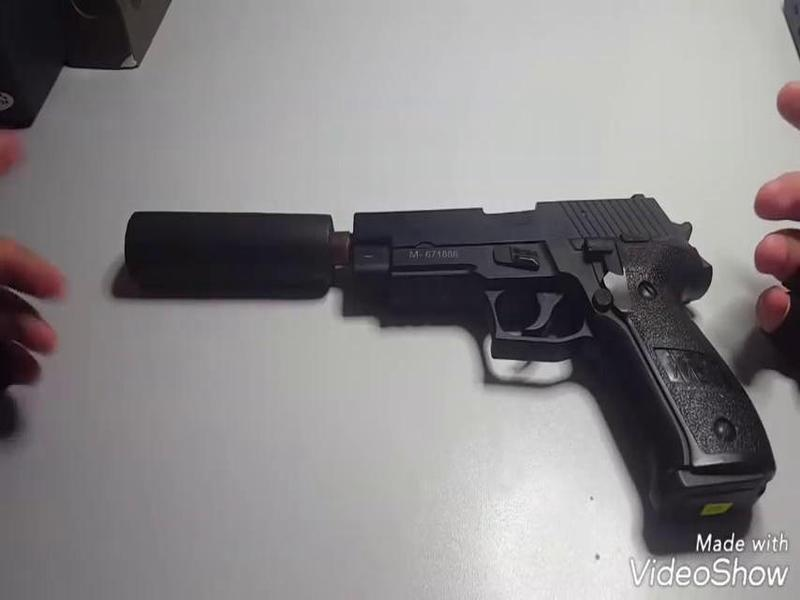Pistola: (349, 181, 783, 515)
